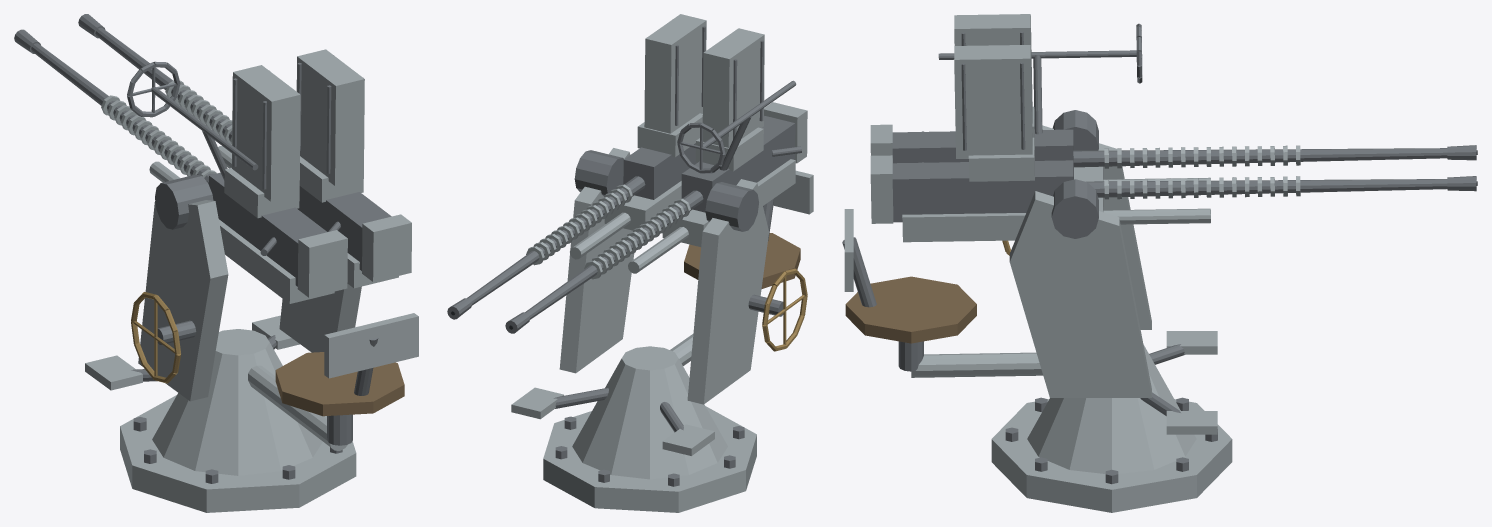
3 views of the same model, side by side, from view 1: azimuth 30°, elevation 25°; view 2: azimuth 150°, elevation 25°; view 3: azimuth 270°, elevation 25° (orthographic). The views are drawn at different scales.
Parts seen in each view (by area): view 1: component.yaw.mesh, component.left.recoil.mesh, component.right.recoil.mesh, component.base.mesh, component.left.elevation.mesh, component.right.elevation.mesh; view 2: component.yaw.mesh, component.left.recoil.mesh, component.right.recoil.mesh, component.base.mesh, component.left.elevation.mesh, component.right.elevation.mesh; view 3: component.yaw.mesh, component.right.recoil.mesh, component.left.recoil.mesh, component.base.mesh, component.right.elevation.mesh, component.left.elevation.mesh.
Boxes of the visible parts, x1,y1,x2,y2 form: component.yaw.mesh: (85,174,418,475); component.left.recoil.mesh: (14,29,347,297); component.right.recoil.mesh: (78,14,411,281); component.base.mesh: (120,395,356,512); component.left.elevation.mesh: (127,61,334,303); component.right.elevation.mesh: (218,146,398,288); component.yaw.mesh: (511,148,813,479); component.left.recoil.mesh: (505,28,807,333); component.right.recoil.mesh: (447,14,706,319); component.base.mesh: (543,406,756,512); component.left.elevation.mesh: (628,80,796,273); component.right.elevation.mesh: (570,181,681,259); component.yaw.mesh: (842,110,1217,473); component.right.recoil.mesh: (870,45,1477,223); component.left.recoil.mesh: (870,14,1477,179); component.base.mesh: (991,397,1232,512); component.right.elevation.mesh: (902,197,1210,242); component.left.elevation.mesh: (938,23,1210,207).
Bounding box in the file's own units: 0.6969 × 1.29 × 1.74.
